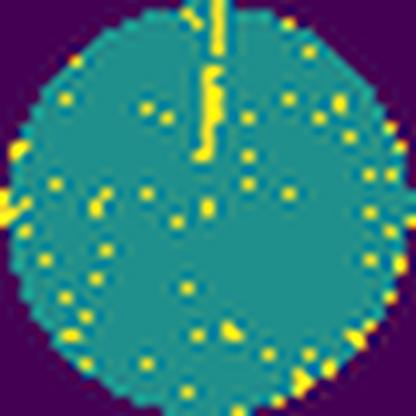Scratch: (192, 64, 230, 169), (208, 0, 228, 61)
